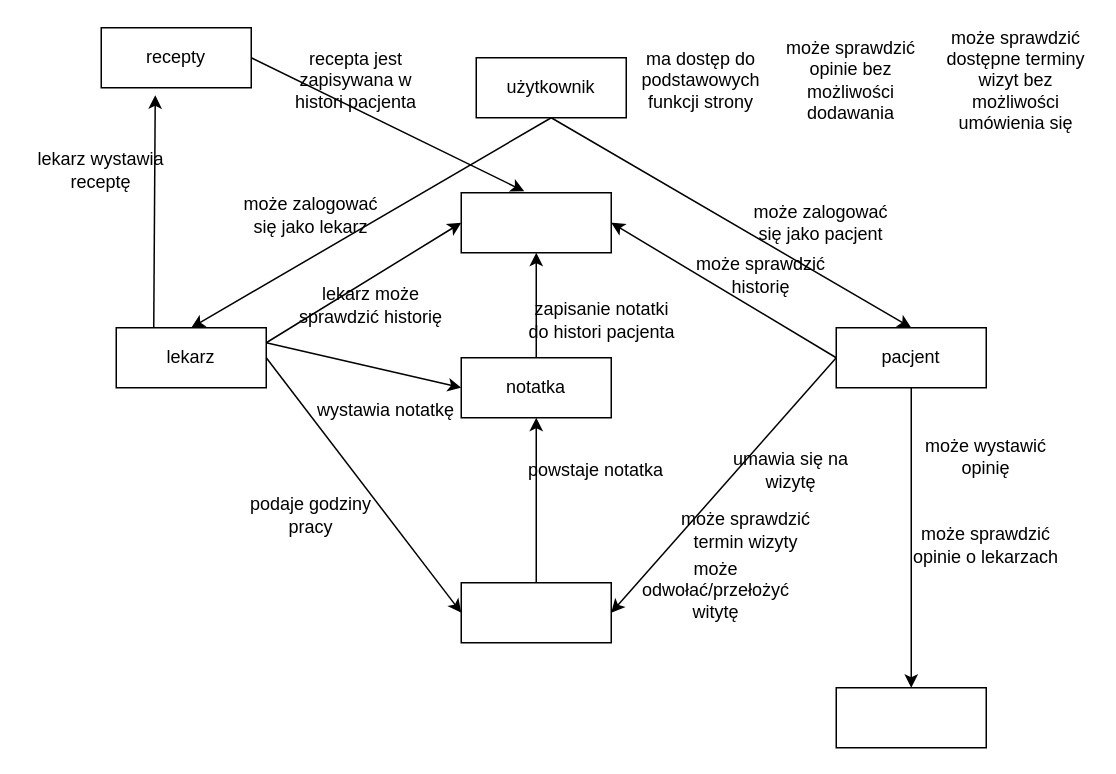
The diagram is 1116 pixels wide and 774 high, and some of its shapes have lost their labels. The shapes that lost their labels are listed below. From the top down, each one's centre as x and y in pixels, then its label:
pixel 535 222: historia chorób pacjenta
pixel 535 612: wizyta
pixel 910 717: opinie
